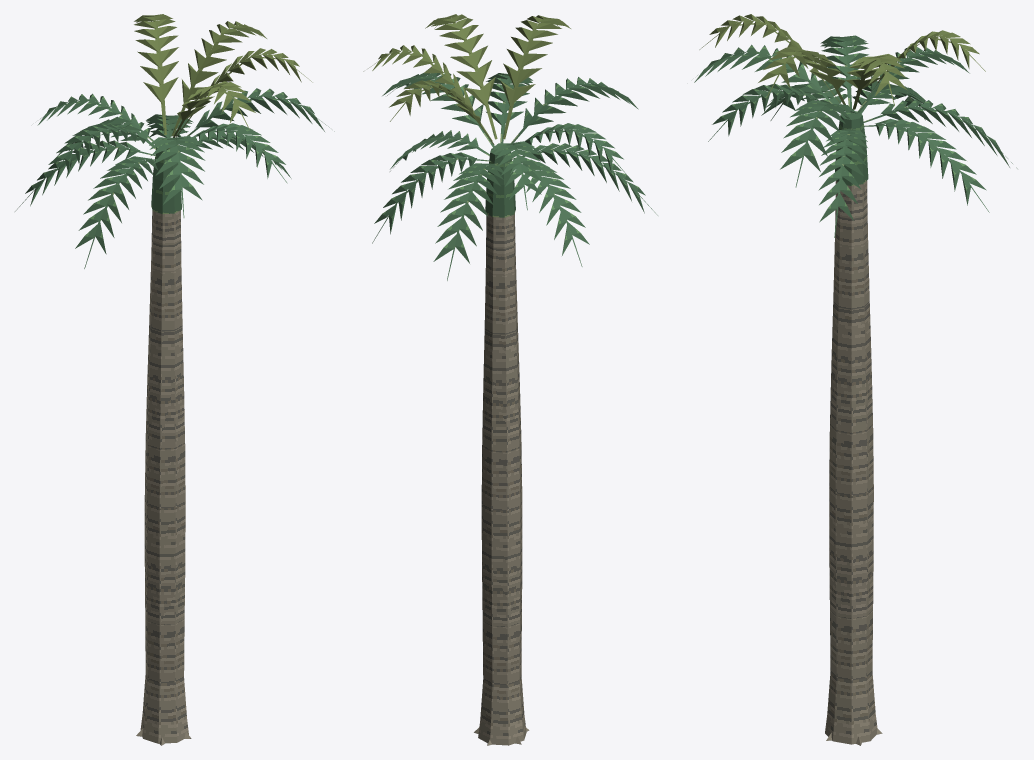
File: royal.glb
The picture shows the model from 3 angles, left to right: view 1: azimuth 30°, elevation 25°; view 2: azimuth 150°, elevation 25°; view 3: azimuth 270°, elevation 25°; orthographic projection. The views are drawn at different scales.
Visible parts, largest first — view 1: trunk_royal, crown_royal; view 2: crown_royal, trunk_royal; view 3: trunk_royal, crown_royal.
Boxes of the visible parts, x1,y1,x2,y2 form: trunk_royal: [136, 145, 191, 745]; crown_royal: [15, 14, 334, 268]; crown_royal: [363, 14, 657, 280]; trunk_royal: [474, 149, 529, 745]; trunk_royal: [825, 111, 882, 745]; crown_royal: [694, 14, 1017, 237].
Size of the model in its own units: 7.34 by 18.02 by 7.55.
Materials: 2 (2 with a texture image).
